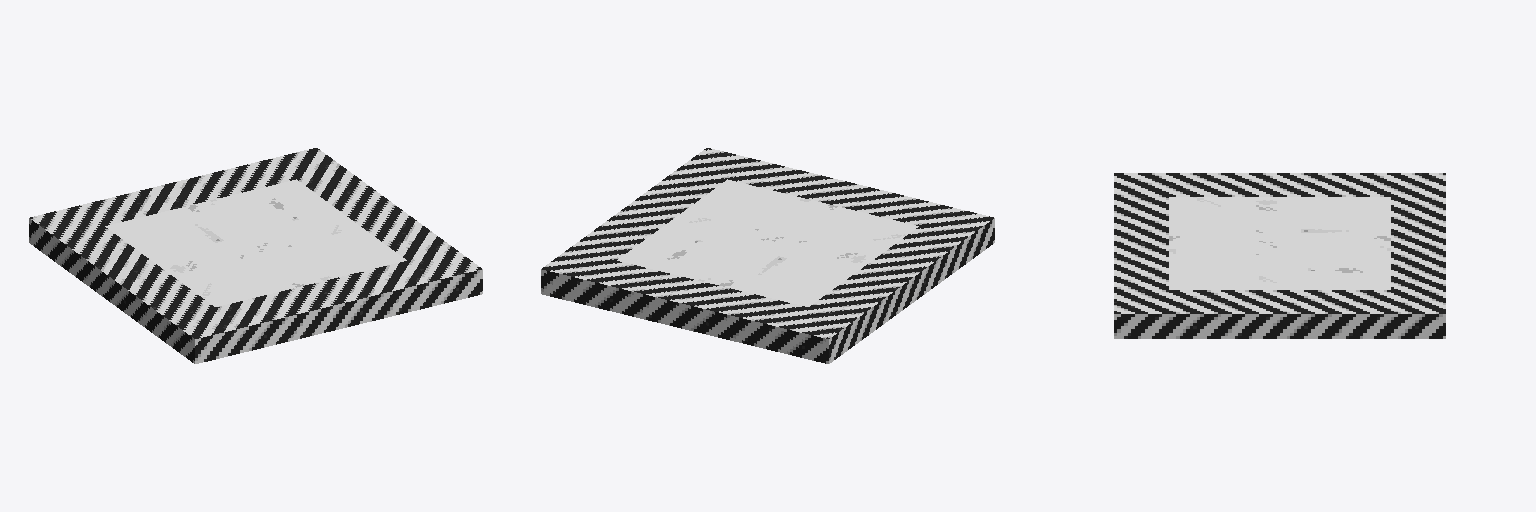
The picture shows the model from 3 angles: view 1: azimuth 30°, elevation 25°; view 2: azimuth 150°, elevation 25°; view 3: azimuth 270°, elevation 25°; orthographic projection.
Visible parts, largest first — view 1: Caution Panel; view 2: Caution Panel; view 3: Caution Panel.
Boxes of the visible parts, <box> form: Caution Panel: <box>29,148,482,363</box>; Caution Panel: <box>541,148,994,363</box>; Caution Panel: <box>1114,173,1445,338</box>.
Size of the model in its own units: 1.5 by 0.125 by 1.5.
2 materials, 2 textured.